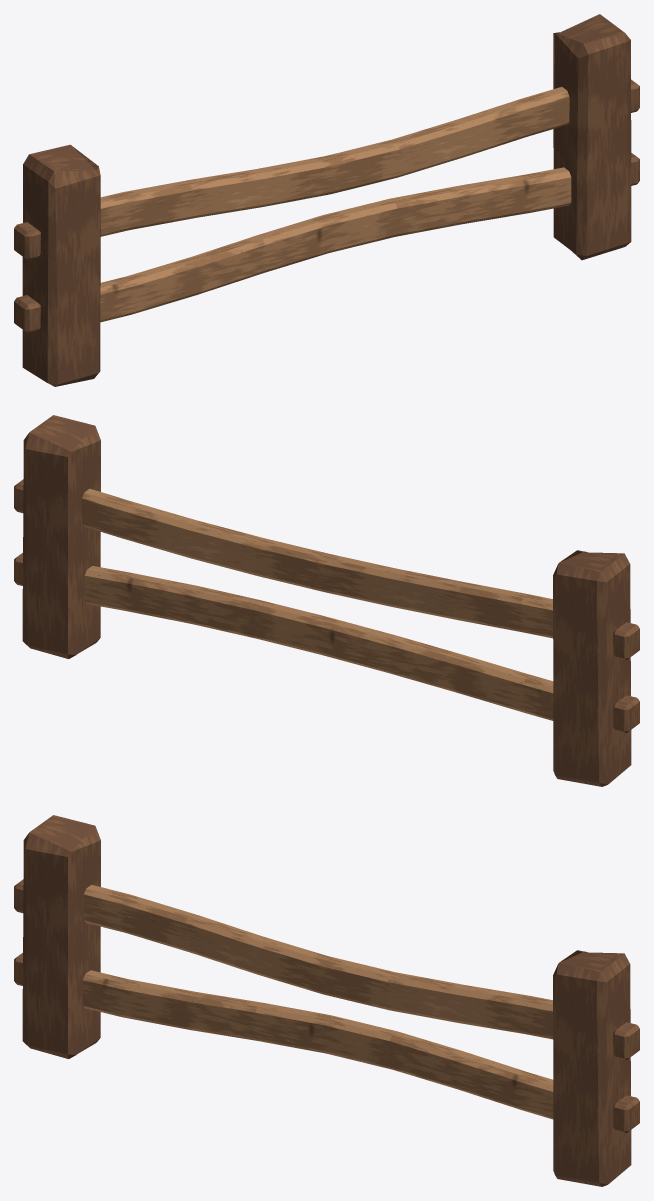
Rendered from wooden_garden_fence.glb.
The picture shows the model from 3 angles, top to bottom: view 1: azimuth 30°, elevation 25°; view 2: azimuth 150°, elevation 25°; view 3: azimuth 330°, elevation 25°; orthographic projection.
Parts seen in each view (by area): view 1: wooden_garden_fence_rail_lower, wooden_garden_fence_rail_upper, wooden_garden_fence_post_L, wooden_garden_fence_post_R; view 2: wooden_garden_fence_rail_upper, wooden_garden_fence_rail_lower, wooden_garden_fence_post_L, wooden_garden_fence_post_R; view 3: wooden_garden_fence_rail_lower, wooden_garden_fence_rail_upper, wooden_garden_fence_post_R, wooden_garden_fence_post_L.
Boxes of the visible parts, <box> form: wooden_garden_fence_rail_lower: <box>100,167,571,322</box>; wooden_garden_fence_rail_upper: <box>100,87,569,236</box>; wooden_garden_fence_post_L: <box>14,144,100,386</box>; wooden_garden_fence_post_R: <box>553,14,639,260</box>; wooden_garden_fence_rail_upper: <box>82,488,552,638</box>; wooden_garden_fence_rail_lower: <box>84,566,553,720</box>; wooden_garden_fence_post_L: <box>553,550,639,786</box>; wooden_garden_fence_post_R: <box>14,415,100,658</box>; wooden_garden_fence_rail_lower: <box>82,970,553,1119</box>; wooden_garden_fence_rail_upper: <box>83,884,552,1039</box>; wooden_garden_fence_post_R: <box>553,950,639,1186</box>; wooden_garden_fence_post_L: <box>14,815,100,1058</box>.
Size of what is drawn, in the model's own units: 3 by 1.02 by 0.2754.
2 materials, 2 textured.
